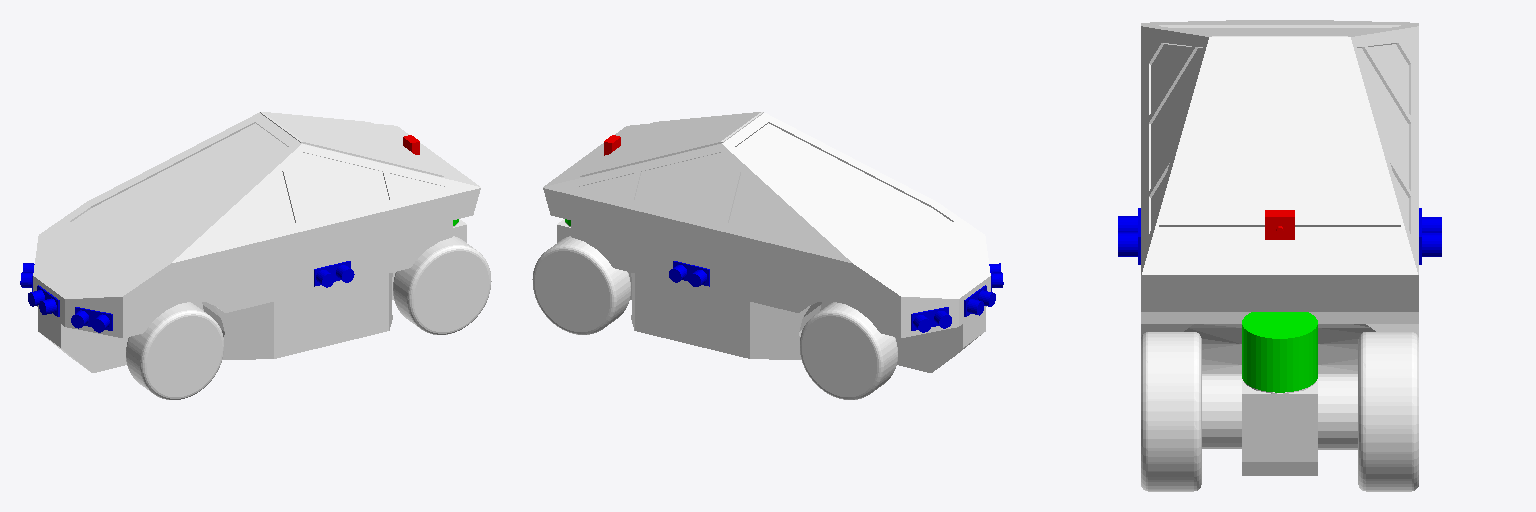
URDF robot description (xytronY):
<?xml version="1.0" encoding="utf-8"?>
<!-- This URDF was automatically created by SolidWorks to URDF Exporter! Originally created by [author] ([email redacted]) 
     Commit Version: 1.6.0-4-g7f85cfe  Build Version: 1.6.7995.38578
     For more information, please see http://wiki.ros.org/sw_urdf_exporter -->
<robot
  name="xytronY">
  <link
    name="base_link">
    <inertial>
      <origin
        xyz="-0.023141 0.0071464 -2.5905E-08"
        rpy="0 0 0" />
      <mass
        value="11.505" />
      <inertia
        ixx="0.057941"
        ixy="-0.0048362"
        ixz="-2.5661E-08"
        iyy="0.17549"
        iyz="-6.1659E-08"
        izz="0.1801" />
    </inertial>
    <visual>
      <origin
        xyz="0 0 0"
        rpy="0 0 0" />
      <geometry>
        <mesh
          filename="package://xytronY/meshes/base_link.STL" />
      </geometry>
      <material
        name="">
        <color
          rgba="192 192 192 1" />
      </material>
    </visual>
    <collision>
      <origin
        xyz="0 0 0"
        rpy="0 0 0" />
      <geometry>
        <mesh
          filename="package://xytronY/meshes/base_link.STL" />
      </geometry>
    </collision>
  </link>
  <link
    name="F_R_link">
    <inertial>
      <origin
        xyz="0 0 0.043695"
        rpy="0 0 0" />
      <mass
        value="0.39886" />
      <inertia
        ixx="0.000348"
        ixy="0"
        ixz="-1.8117E-21"
        iyy="0.000348"
        iyz="5.4102E-22"
        izz="0.00048566" />
    </inertial>
    <visual>
      <origin
        xyz="0 0 0"
        rpy="0 0 0" />
      <geometry>
        <mesh
          filename="package://xytronY/meshes/F_R_link.STL" />
      </geometry>
      <material
        name="">
        <color
          rgba="1 1 1 1" />
      </material>
    </visual>
    <collision>
      <origin
        xyz="0 0 0"
        rpy="0 0 0" />
      <geometry>
        <mesh
          filename="package://xytronY/meshes/F_R_link.STL" />
      </geometry>
    </collision>
  </link>
  <joint
    name="F_R_joint"
    type="continuous">
    <origin
      xyz="0.16081 -0.023 -0.0621"
      rpy="1.5708 -0.68589 0" />
    <parent
      link="base_link" />
    <child
      link="F_R_link" />
    <axis
      xyz="0 0 1" />
  </joint>
  <link
    name="F_L_link">
    <inertial>
      <origin
        xyz="4.1633E-17 4.1633E-17 0.039695"
        rpy="0 0 0" />
      <mass
        value="0.39886" />
      <inertia
        ixx="0.000348"
        ixy="2.7105E-20"
        ixz="-6.9279E-21"
        iyy="0.000348"
        iyz="6.0116E-21"
        izz="0.00048566" />
    </inertial>
    <visual>
      <origin
        xyz="0 0 0"
        rpy="0 0 0" />
      <geometry>
        <mesh
          filename="package://xytronY/meshes/F_L_link.STL" />
      </geometry>
      <material
        name="">
        <color
          rgba="1 1 1 1" />
      </material>
    </visual>
    <collision>
      <origin
        xyz="0 0 0"
        rpy="0 0 0" />
      <geometry>
        <mesh
          filename="package://xytronY/meshes/F_L_link.STL" />
      </geometry>
    </collision>
  </link>
  <joint
    name="F_L_joint"
    type="continuous">
    <origin
      xyz="0.16081 0.027 -0.0621"
      rpy="1.5708 0.39309 -3.1416" />
    <parent
      link="base_link" />
    <child
      link="F_L_link" />
    <axis
      xyz="0 0 1" />
  </joint>
  <link
    name="B_R_link">
    <inertial>
      <origin
        xyz="-2.0817E-17 -2.7756E-17 0.043695"
        rpy="0 0 0" />
      <mass
        value="0.39886" />
      <inertia
        ixx="0.000348"
        ixy="-2.7105E-20"
        ixz="-5.7064E-21"
        iyy="0.000348"
        iyz="9.0481E-21"
        izz="0.00048566" />
    </inertial>
    <visual>
      <origin
        xyz="0 0 0"
        rpy="0 0 0" />
      <geometry>
        <mesh
          filename="package://xytronY/meshes/B_R_link.STL" />
      </geometry>
      <material
        name="">
        <color
          rgba="1 1 1 1" />
      </material>
    </visual>
    <collision>
      <origin
        xyz="0 0 0"
        rpy="0 0 0" />
      <geometry>
        <mesh
          filename="package://xytronY/meshes/B_R_link.STL" />
      </geometry>
    </collision>
  </link>
  <joint
    name="B_R_joint"
    type="continuous">
    <origin
      xyz="-0.17419 -0.023 -0.0621"
      rpy="1.5708 0.9325 0" />
    <parent
      link="base_link" />
    <child
      link="B_R_link" />
    <axis
      xyz="0 0 1" />
  </joint>
  <link
    name="B_L_link">
    <inertial>
      <origin
        xyz="-5.5511E-17 -2.7756E-17 0.039695"
        rpy="0 0 0" />
      <mass
        value="0.39886" />
      <inertia
        ixx="0.000348"
        ixy="0"
        ixz="-6.9279E-21"
        iyy="0.000348"
        iyz="6.0116E-21"
        izz="0.00048566" />
    </inertial>
    <visual>
      <origin
        xyz="0 0 0"
        rpy="0 0 0" />
      <geometry>
        <mesh
          filename="package://xytronY/meshes/B_L_link.STL" />
      </geometry>
      <material
        name="">
        <color
          rgba="1 1 1 1" />
      </material>
    </visual>
    <collision>
      <origin
        xyz="0 0 0"
        rpy="0 0 0" />
      <geometry>
        <mesh
          filename="package://xytronY/meshes/B_L_link.STL" />
      </geometry>
    </collision>
  </link>
  <joint
    name="B_L_joint"
    type="continuous">
    <origin
      xyz="-0.17419 0.027 -0.0621"
      rpy="1.5708 0.39309 -3.1416" />
    <parent
      link="base_link" />
    <child
      link="B_L_link" />
    <axis
      xyz="0 0 1" />
  </joint>
  <link
    name="Lidar_link">
    <inertial>
      <origin
        xyz="-2.7756E-17 -1.3976E-17 0.0015995"
        rpy="0 0 0" />
      <mass
        value="0.076576" />
      <inertia
        ixx="2.1671E-05"
        ixy="-5.6231E-54"
        ixz="9.1835E-38"
        iyy="2.1671E-05"
        iyz="-1.3832E-22"
        izz="2.393E-05" />
    </inertial>
    <visual>
      <origin
        xyz="0 0 0"
        rpy="0 0 0" />
      <geometry>
        <mesh
          filename="package://xytronY/meshes/Lidar_link.STL" />
      </geometry>
      <material
        name="">
        <color
          rgba="0 1 0 1" />
      </material>
    </visual>
    <collision>
      <origin
        xyz="0 0 0"
        rpy="0 0 0" />
      <geometry>
        <mesh
          filename="package://xytronY/meshes/Lidar_link.STL" />
      </geometry>
    </collision>
  </link>
  <joint
    name="Lidar_joint"
    type="continuous">
    <origin
      xyz="0.19412 0 0"
      rpy="3.1416 0 0" />
    <parent
      link="base_link" />
    <child
      link="Lidar_link" />
    <axis
      xyz="0 0 1" />
  </joint>
  <link
    name="Ulteasonic_R_link">
    <inertial>
      <origin
        xyz="-0.00026757 1.7347E-18 0.0067753"
        rpy="0 0 0" />
      <mass
        value="0.0079276" />
      <inertia
        ixx="3.6324E-07"
        ixy="-9.8319E-24"
        ixz="5.7795E-09"
        iyy="1.5422E-06"
        iyz="9.4032E-23"
        izz="1.5263E-06" />
    </inertial>
    <visual>
      <origin
        xyz="0 0 0"
        rpy="0 0 0" />
      <geometry>
        <mesh
          filename="package://xytronY/meshes/Ulteasonic_R_link.STL" />
      </geometry>
      <material
        name="">
        <color
          rgba="0 0 1 1" />
      </material>
    </visual>
    <collision>
      <origin
        xyz="0 0 0"
        rpy="0 0 0" />
      <geometry>
        <mesh
          filename="package://xytronY/meshes/Ulteasonic_R_link.STL" />
      </geometry>
    </collision>
  </link>
  <joint
    name="Ulteasonic_R_joint"
    type="fixed">
    <origin
      xyz="0.010615 -0.0905 -0.0050995"
      rpy="1.5708 0 0" />
    <parent
      link="base_link" />
    <child
      link="Ulteasonic_R_link" />
    <axis
      xyz="0 0 0" />
  </joint>
  <link
    name="Ulteasonic_L_link">
    <inertial>
      <origin
        xyz="-0.00026757 1.7347E-18 0.0067753"
        rpy="0 0 0" />
      <mass
        value="0.0079276" />
      <inertia
        ixx="3.6324E-07"
        ixy="2.1393E-23"
        ixz="5.7795E-09"
        iyy="1.5422E-06"
        iyz="8.3254E-23"
        izz="1.5263E-06" />
    </inertial>
    <visual>
      <origin
        xyz="0 0 0"
        rpy="0 0 0" />
      <geometry>
        <mesh
          filename="package://xytronY/meshes/Ulteasonic_L_link.STL" />
      </geometry>
      <material
        name="">
        <color
          rgba="0 0 1 1" />
      </material>
    </visual>
    <collision>
      <origin
        xyz="0 0 0"
        rpy="0 0 0" />
      <geometry>
        <mesh
          filename="package://xytronY/meshes/Ulteasonic_L_link.STL" />
      </geometry>
    </collision>
  </link>
  <joint
    name="Ulteasonic_L_joint"
    type="fixed">
    <origin
      xyz="0.010615 0.0905 -0.0050995"
      rpy="1.5708 0 3.1416" />
    <parent
      link="base_link" />
    <child
      link="Ulteasonic_L_link" />
    <axis
      xyz="0 0 0" />
  </joint>
  <link
    name="Ulteasonic_B_R_link">
    <inertial>
      <origin
        xyz="-0.00026757 5.2042E-18 0.0067753"
        rpy="0 0 0" />
      <mass
        value="0.0079276" />
      <inertia
        ixx="3.6324E-07"
        ixy="3.251E-22"
        ixz="5.7795E-09"
        iyy="1.5422E-06"
        iyz="2.1071E-22"
        izz="1.5263E-06" />
    </inertial>
    <visual>
      <origin
        xyz="0 0 0"
        rpy="0 0 0" />
      <geometry>
        <mesh
          filename="package://xytronY/meshes/Ulteasonic_B_R_link.STL" />
      </geometry>
      <material
        name="">
        <color
          rgba="0 0 1 1" />
      </material>
    </visual>
    <collision>
      <origin
        xyz="0 0 0"
        rpy="0 0 0" />
      <geometry>
        <mesh
          filename="package://xytronY/meshes/Ulteasonic_B_R_link.STL" />
      </geometry>
    </collision>
  </link>
  <joint
    name="Ulteasonic_B_R_joint"
    type="fixed">
    <origin
      xyz="-0.27028 -0.062687 -0.0050995"
      rpy="1.5708 0 -0.95993" />
    <parent
      link="base_link" />
    <child
      link="Ulteasonic_B_R_link" />
    <axis
      xyz="0 0 0" />
  </joint>
  <link
    name="Ulteasonic_B_L_link">
    <inertial>
      <origin
        xyz="-0.00026757 8.6736E-19 0.0067753"
        rpy="0 0 0" />
      <mass
        value="0.0079276" />
      <inertia
        ixx="3.6324E-07"
        ixy="-3.1438E-22"
        ixz="5.7795E-09"
        iyy="1.5422E-06"
        iyz="1.025E-22"
        izz="1.5263E-06" />
    </inertial>
    <visual>
      <origin
        xyz="0 0 0"
        rpy="0 0 0" />
      <geometry>
        <mesh
          filename="package://xytronY/meshes/Ulteasonic_B_L_link.STL" />
      </geometry>
      <material
        name="">
        <color
          rgba="0 0 1 1" />
      </material>
    </visual>
    <collision>
      <origin
        xyz="0 0 0"
        rpy="0 0 0" />
      <geometry>
        <mesh
          filename="package://xytronY/meshes/Ulteasonic_B_L_link.STL" />
      </geometry>
    </collision>
  </link>
  <joint
    name="Ulteasonic_B_L_joint"
    type="fixed">
    <origin
      xyz="-0.27028 0.062687 -0.0050995"
      rpy="1.5708 0 -2.1817" />
    <parent
      link="base_link" />
    <child
      link="Ulteasonic_B_L_link" />
    <axis
      xyz="0 0 0" />
  </joint>
  <link
    name="Ulteasonic_B_M_link">
    <inertial>
      <origin
        xyz="-0.00026757 -1.7347E-18 -0.0067753"
        rpy="0 0 0" />
      <mass
        value="0.0079276" />
      <inertia
        ixx="3.6324E-07"
        ixy="1.3884E-23"
        ixz="-5.7795E-09"
        iyy="1.5422E-06"
        iyz="9.7284E-23"
        izz="1.5263E-06" />
    </inertial>
    <visual>
      <origin
        xyz="0 0 0"
        rpy="0 0 0" />
      <geometry>
        <mesh
          filename="package://xytronY/meshes/Ulteasonic_B_M_link.STL" />
      </geometry>
      <material
        name="">
        <color
          rgba="0 0 1 1" />
      </material>
    </visual>
    <collision>
      <origin
        xyz="0 0 0"
        rpy="0 0 0" />
      <geometry>
        <mesh
          filename="package://xytronY/meshes/Ulteasonic_B_M_link.STL" />
      </geometry>
    </collision>
  </link>
  <joint
    name="Ulteasonic_B_M_joint"
    type="fixed">
    <origin
      xyz="-0.28988 0 -0.0050995"
      rpy="-1.5708 0 -1.5708" />
    <parent
      link="base_link" />
    <child
      link="Ulteasonic_B_M_link" />
    <axis
      xyz="0 0 0" />
  </joint>
  <link
    name="cam_link">
    <inertial>
      <origin
        xyz="0.016638 0.0004604 6.5384E-22"
        rpy="0 0 0" />
      <mass
        value="0.0037561" />
      <inertia
        ixx="2.1559E-07"
        ixy="5.3104E-09"
        ixz="-6.8025E-25"
        iyy="1.6276E-07"
        iyz="8.7938E-24"
        izz="1.3133E-07" />
    </inertial>
    <visual>
      <origin
        xyz="0 0 0"
        rpy="0 0 0" />
      <geometry>
        <mesh
          filename="package://xytronY/meshes/cam_link.STL" />
      </geometry>
      <material
        name="">
        <color
          rgba="1 0 0 1" />
      </material>
    </visual>
    <collision>
      <origin
        xyz="0 0 0"
        rpy="0 0 0" />
      <geometry>
        <mesh
          filename="package://xytronY/meshes/cam_link.STL" />
      </geometry>
    </collision>
  </link>
  <joint
    name="cam_joint"
    type="fixed">
    <origin
      xyz="0.14716 0 0.07398"
      rpy="1.5708 0 0" />
    <parent
      link="base_link" />
    <child
      link="cam_link" />
    <axis
      xyz="0 0 0" />
  </joint>
</robot>

--- Render facts (derived) ---
3 views of the same robot in one strip: view 1: azimuth 30°, elevation 25°; view 2: azimuth 150°, elevation 25°; view 3: azimuth 270°, elevation 25° (orthographic).
Model xytronY with 12 links and 11 joints (5 continuous, 6 fixed), rooted at base_link, posed every joint at zero.
Links seen in each view (by area): view 1: base_link, F_R_link, B_R_link, Ulteasonic_B_R_link, Ulteasonic_R_link, Ulteasonic_B_M_link; view 2: base_link, F_L_link, B_L_link, Ulteasonic_B_L_link, Ulteasonic_L_link, Ulteasonic_B_M_link; view 3: base_link, F_L_link, F_R_link, Lidar_link, Ulteasonic_R_link, Ulteasonic_L_link, cam_link.
Boxes of the visible links, <box> form: base_link: <box>33,112,480,372</box>; F_R_link: <box>393,236,491,334</box>; B_R_link: <box>126,302,223,399</box>; Ulteasonic_B_R_link: <box>71,307,112,332</box>; Ulteasonic_R_link: <box>314,261,354,287</box>; Ulteasonic_B_M_link: <box>28,285,59,316</box>; base_link: <box>543,112,990,372</box>; F_L_link: <box>532,236,630,334</box>; B_L_link: <box>800,302,897,399</box>; Ulteasonic_B_L_link: <box>911,307,951,332</box>; Ulteasonic_L_link: <box>669,261,709,286</box>; Ulteasonic_B_M_link: <box>964,285,995,316</box>; base_link: <box>1141,20,1418,475</box>; F_L_link: <box>1318,332,1418,491</box>; F_R_link: <box>1141,332,1241,491</box>; Lidar_link: <box>1242,312,1317,392</box>; Ulteasonic_R_link: <box>1118,208,1140,264</box>; Ulteasonic_L_link: <box>1419,208,1441,264</box>; cam_link: <box>1265,210,1294,239</box>.
Bounding box of the posed robot: 0.525 × 0.213 × 0.2502 m (x, y, z).
Meshes: 12 distinct files referenced, 12 mesh visuals loaded (12 binary STL).
